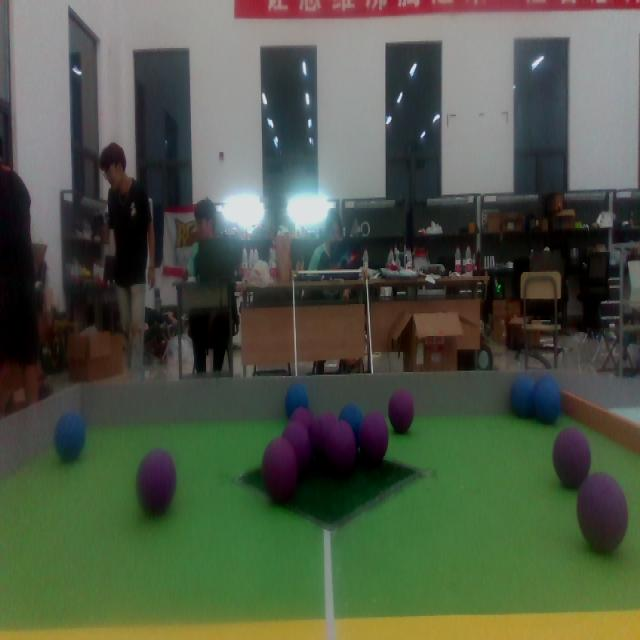blue: (54, 411, 85, 464), (336, 404, 364, 452), (534, 377, 560, 425), (512, 378, 534, 417), (286, 380, 308, 415)
invalid: (577, 461, 627, 555), (136, 441, 176, 517), (259, 434, 297, 504), (552, 428, 594, 491), (322, 417, 353, 478), (356, 410, 387, 463), (284, 421, 310, 475), (312, 409, 338, 459), (390, 386, 414, 432), (292, 415, 311, 439)
